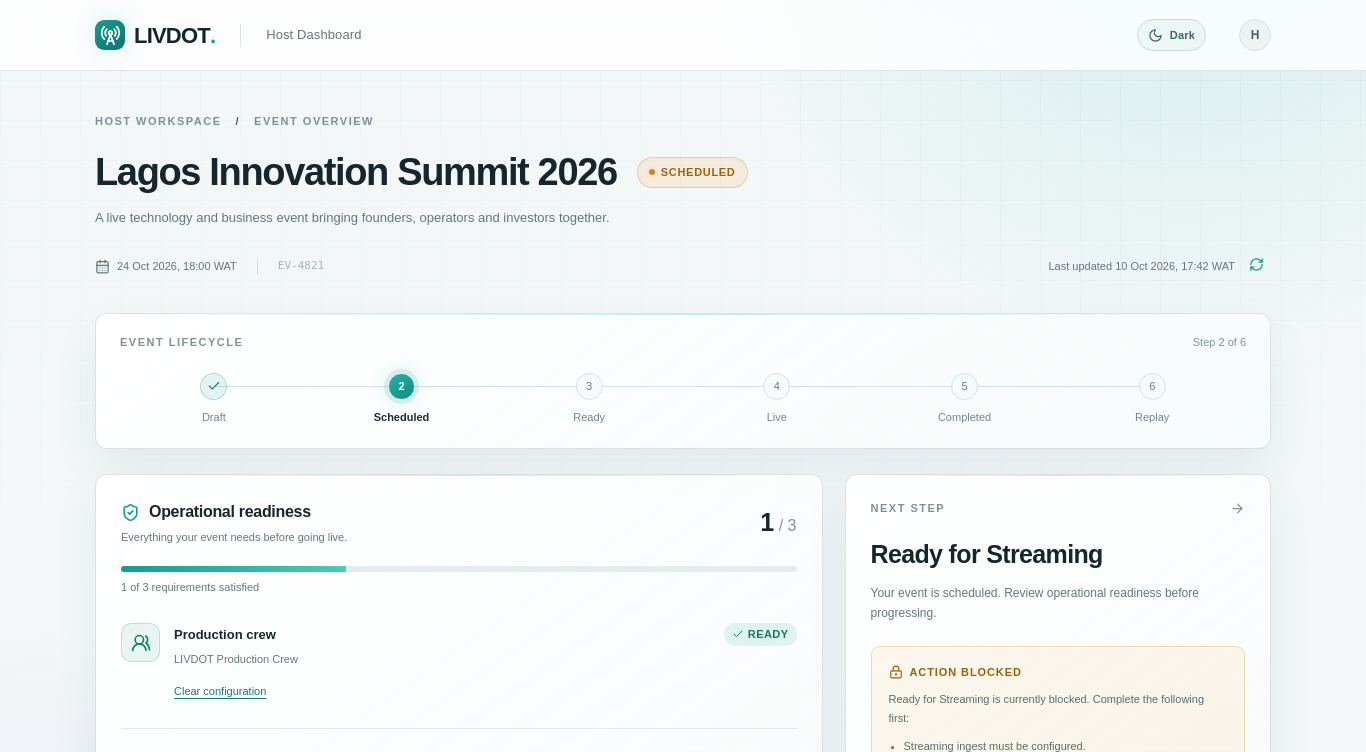
fetch recovery and stale requests › keeps confirmed data when a background refresh fails and clears the error on retry
Click the button named "Refresh event" at (1256, 266), box [1242, 250, 1271, 283]
Wait 1100 ms
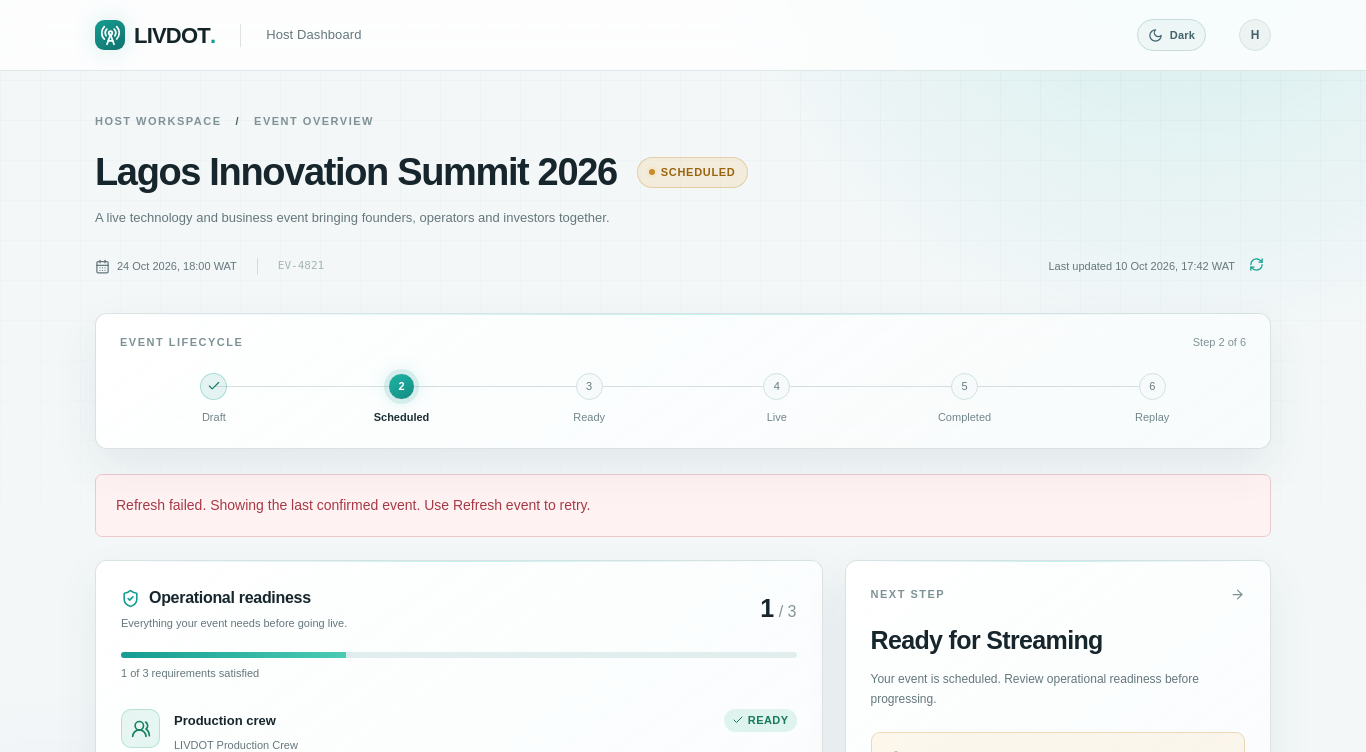
Expected: the element with test id "event-status" reads "Scheduled", [661, 166, 736, 178]
Now the message shows "Refresh failed", box [116, 497, 590, 513]
Click the button named "Refresh event" at (1256, 266), box [1242, 250, 1271, 283]
Wait 10 ms
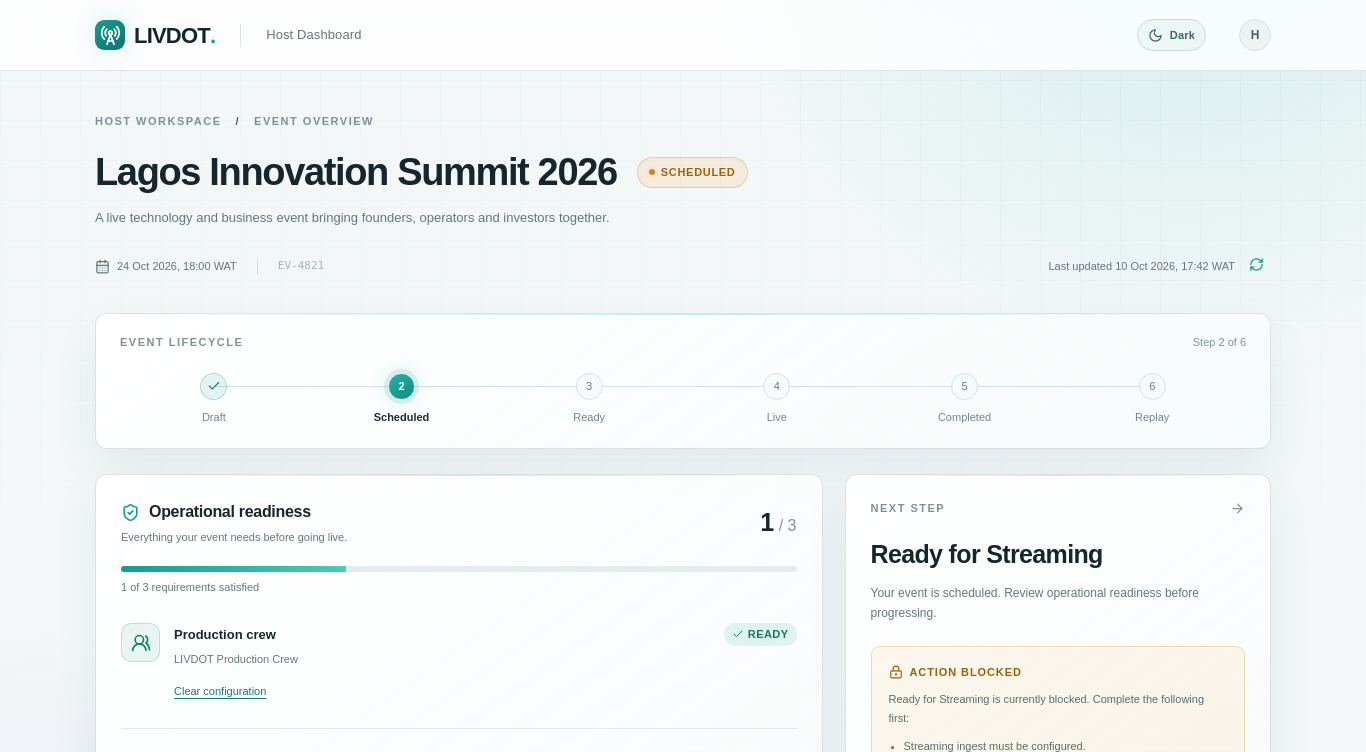
Expected: the element with test id "event-status" reads "Scheduled", [661, 166, 736, 178]
Now the message "Refresh failed. Showing the last confirmed event. Use Refresh event to retry." is gone
